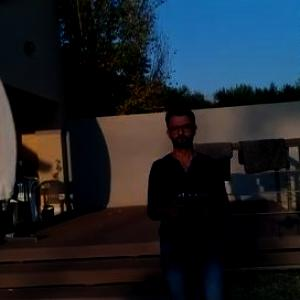follow: (142, 100, 233, 299)
